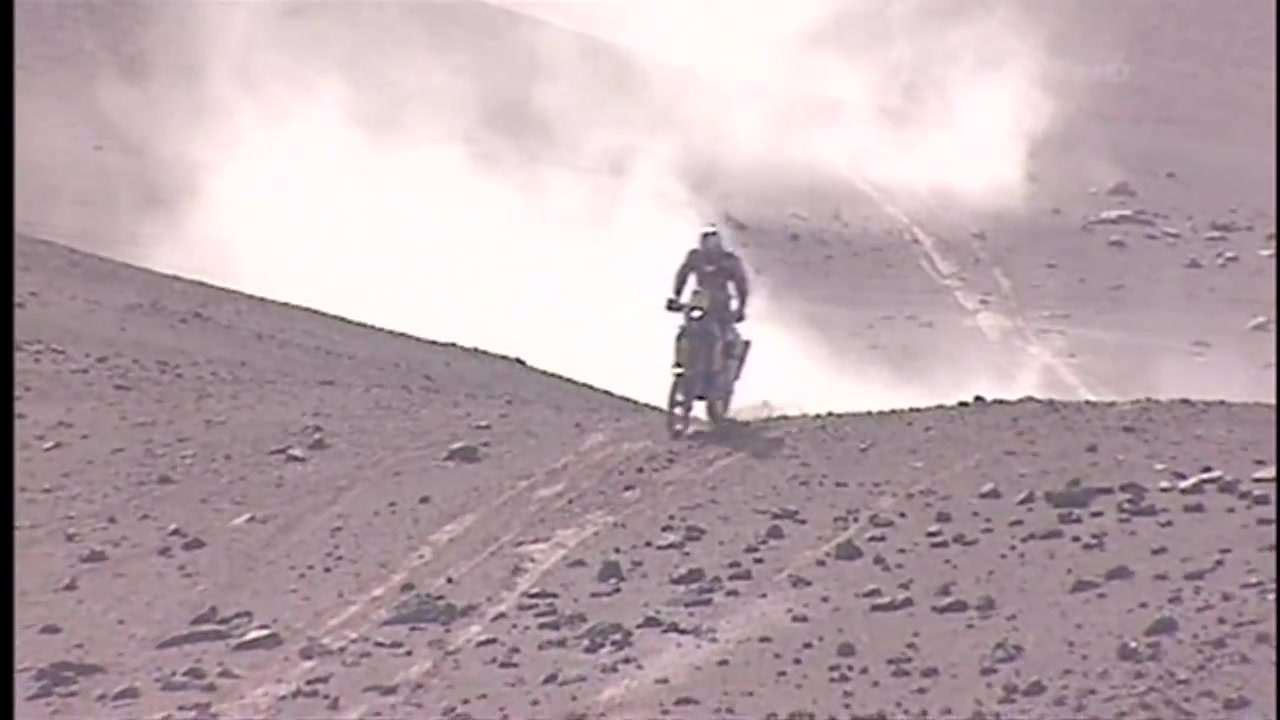motorbike: (668, 297, 751, 437)
